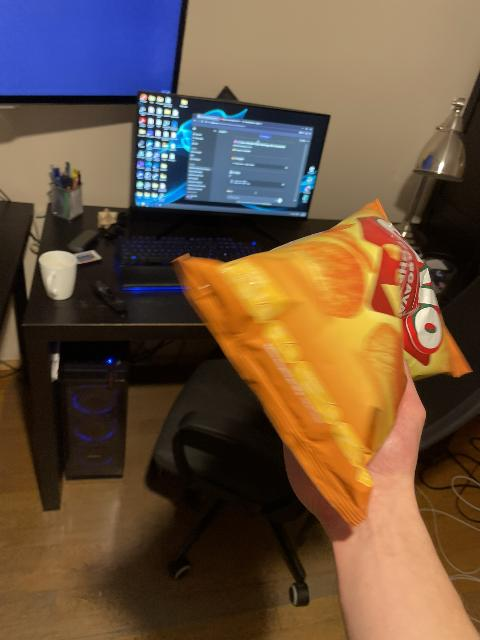Chio Cascaval 125g: (177, 201, 460, 525)
